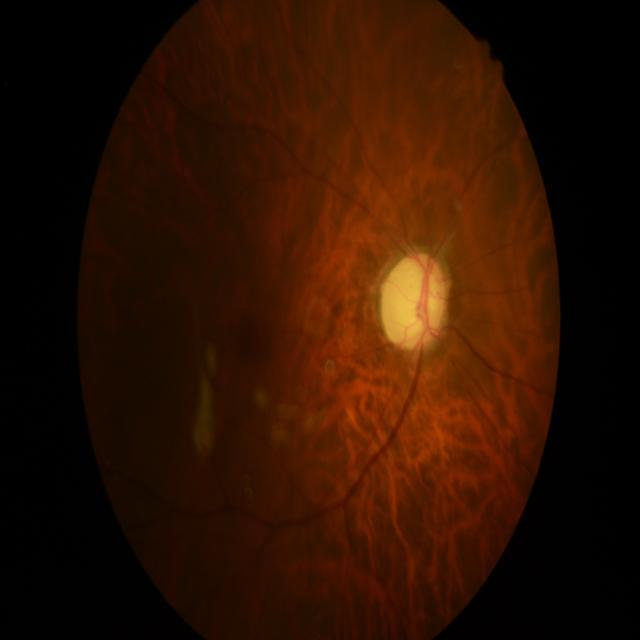cup: (384, 261, 437, 342)
disk: (379, 252, 448, 352)
